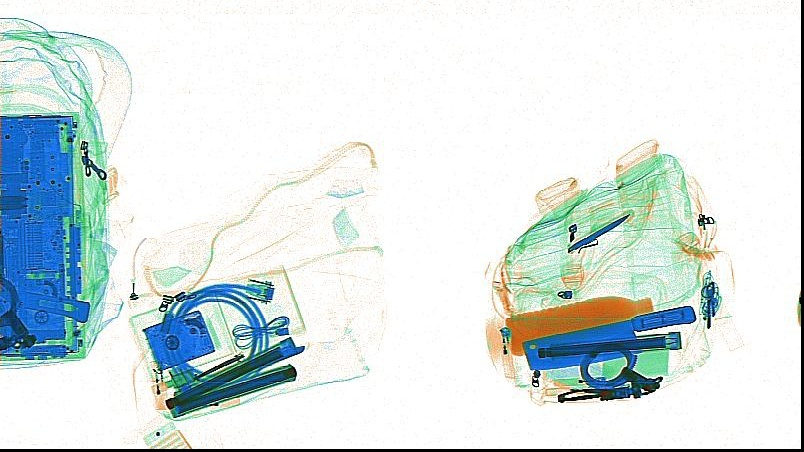handcuffs: (556, 342, 664, 404), (2, 276, 35, 351)
knife: (520, 305, 697, 370), (1, 286, 90, 346), (567, 207, 634, 254), (192, 352, 244, 380)
lighter: (148, 360, 168, 410), (499, 325, 515, 378), (543, 385, 599, 396), (552, 376, 605, 386)
nailpolish: (150, 363, 194, 394)
